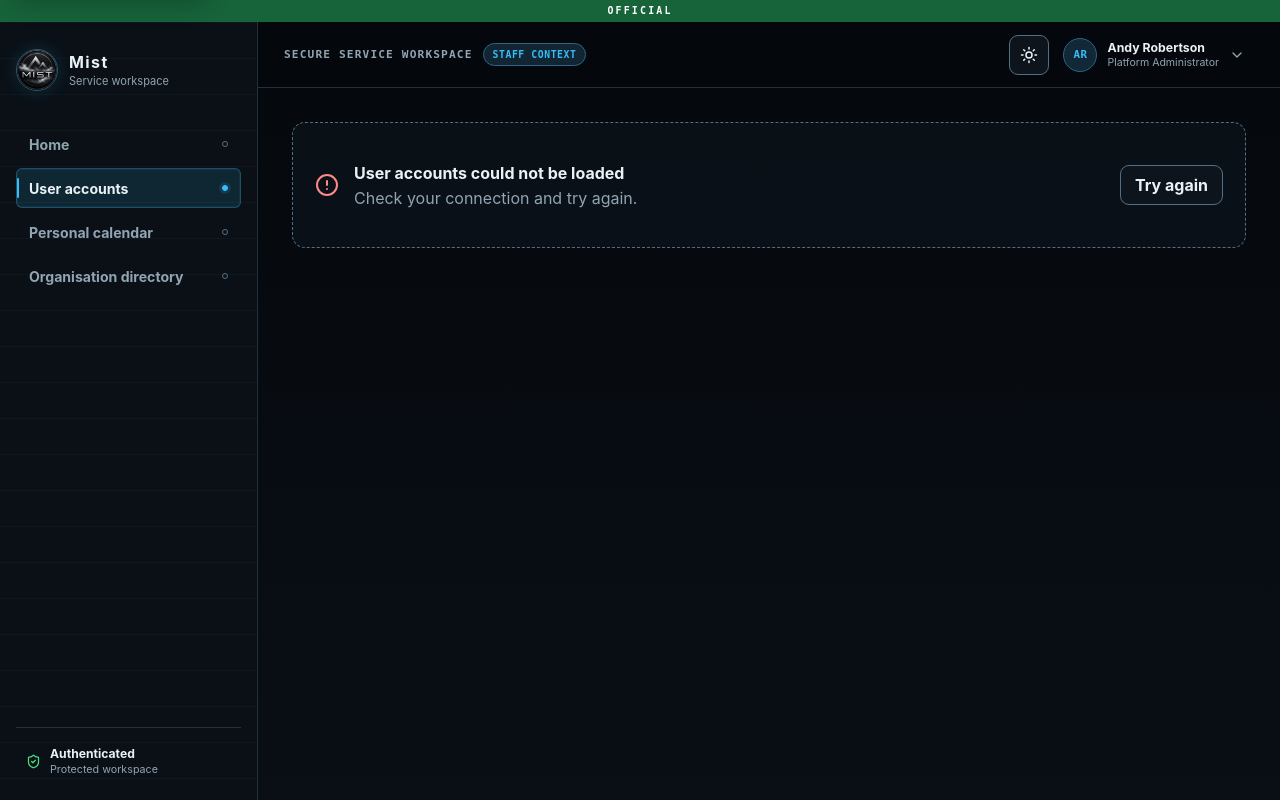
Scenario: platform administrator user management › recovers from a list error and reports an empty register
expect the heading "User accounts could not be loaded" is shown: met, box [354,162,637,182]
Click the button "Try again": (1172, 185) [1120,165,1223,205]
(page scrolled)
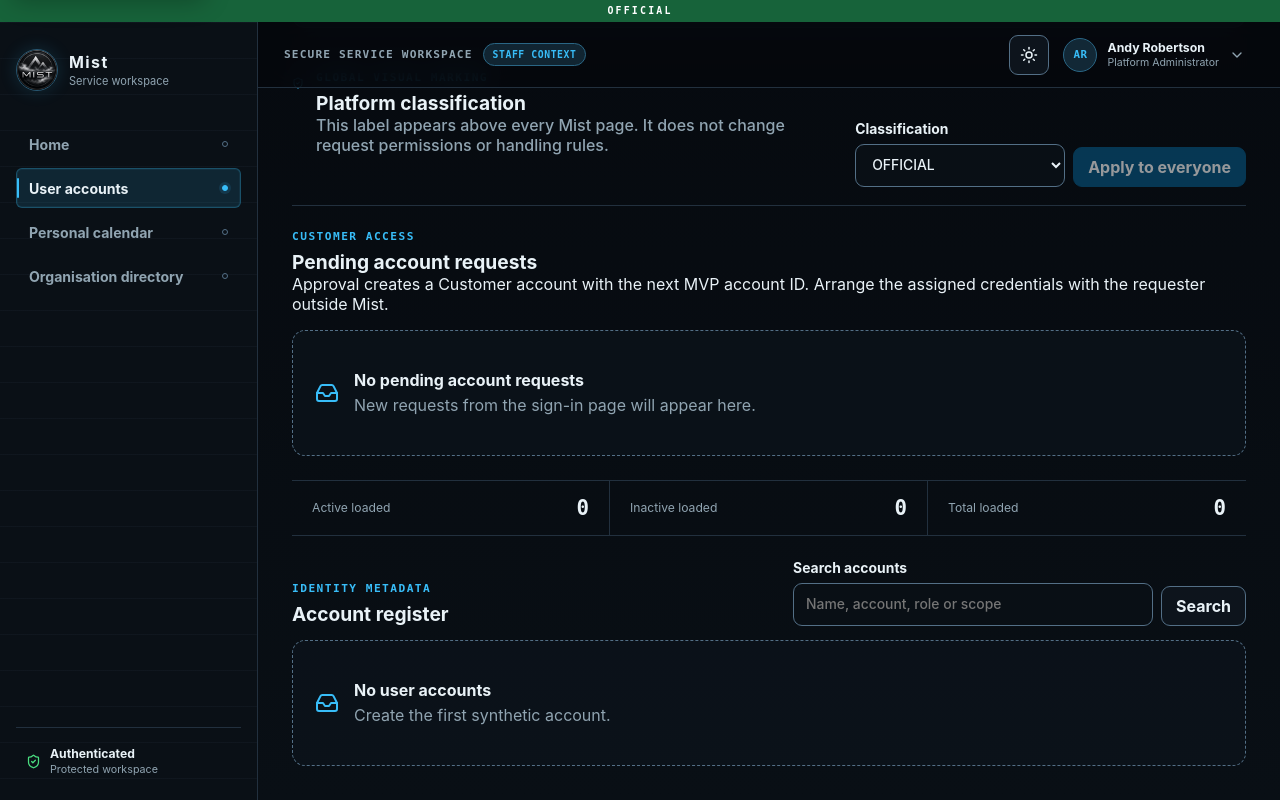
expect the heading "No user accounts" is shown: met, box [354,680,491,700]
